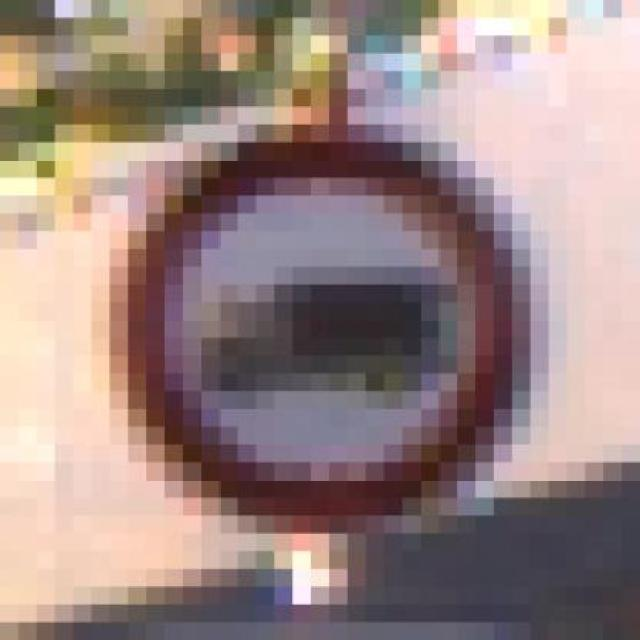Truck traffic is prohibited: (91, 107, 548, 551)
